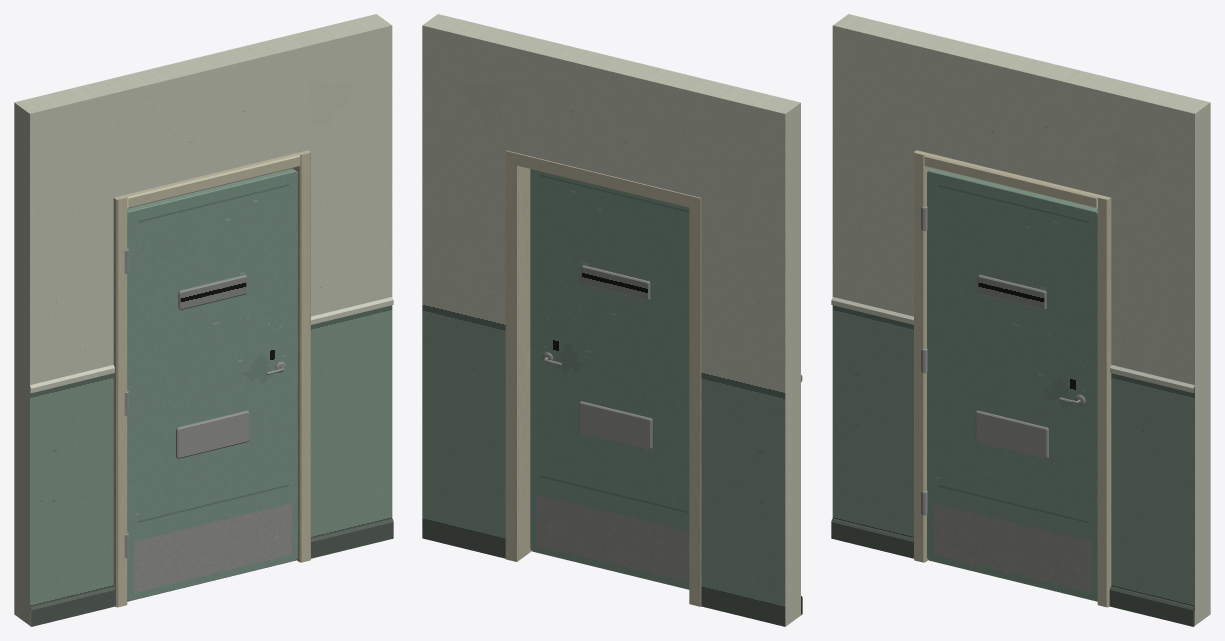
Rendered from door_2c.glb.
The picture shows the model from 3 angles, left to right: view 1: azimuth 30°, elevation 25°; view 2: azimuth 150°, elevation 25°; view 3: azimuth 330°, elevation 25°; orthographic projection.
Visible parts, largest first — view 1: leaf_edge, wall_left, wall_right, wall_lintel, frame_left, frame_right, frame_top, food_hatch_front, observation_flap_front; view 2: leaf_edge, wall_left, wall_right, wall_lintel, frame_right, frame_left, food_hatch_back, frame_top, observation_flap_back; view 3: leaf_edge, wall_right, wall_left, wall_lintel, frame_right, frame_left, frame_top, food_hatch_front, observation_flap_front.
Part boxes in pixels (x1,y1,x2,y2): leaf_edge: (127, 168, 297, 601); wall_left: (14, 81, 115, 626); wall_right: (291, 14, 393, 558); wall_lintel: (100, 35, 305, 196); frame_left: (113, 195, 127, 607); frame_right: (293, 150, 310, 562); frame_top: (125, 153, 300, 208); food_hatch_front: (176, 410, 249, 458); observation_flap_front: (178, 275, 247, 310); leaf_edge: (530, 169, 689, 589); wall_left: (699, 81, 802, 626); wall_right: (422, 14, 523, 558); wall_lintel: (508, 35, 714, 197); frame_right: (505, 150, 531, 561); frame_left: (689, 195, 701, 606); food_hatch_back: (579, 401, 652, 449); frame_top: (517, 153, 689, 207); observation_flap_back: (581, 265, 650, 300); leaf_edge: (927, 168, 1097, 601); wall_right: (1109, 81, 1210, 626); wall_left: (831, 14, 933, 558); wall_lintel: (919, 35, 1124, 196); frame_right: (1097, 195, 1111, 607); frame_left: (914, 150, 931, 562); frame_top: (924, 153, 1099, 208); food_hatch_front: (975, 410, 1048, 458); observation_flap_front: (977, 275, 1046, 310).
Bounding box in the file's own units: 2 × 2.7 × 0.2094.
Materials: 1 (1 with a texture image).
